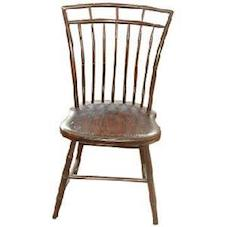chair: (36, 2, 187, 225)
